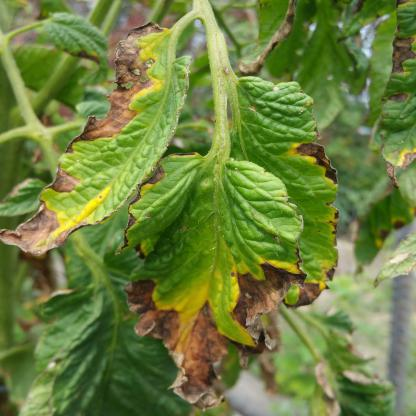tomato leaf bacterial spot: (127, 141, 307, 399), (10, 13, 191, 261), (216, 70, 352, 313)
